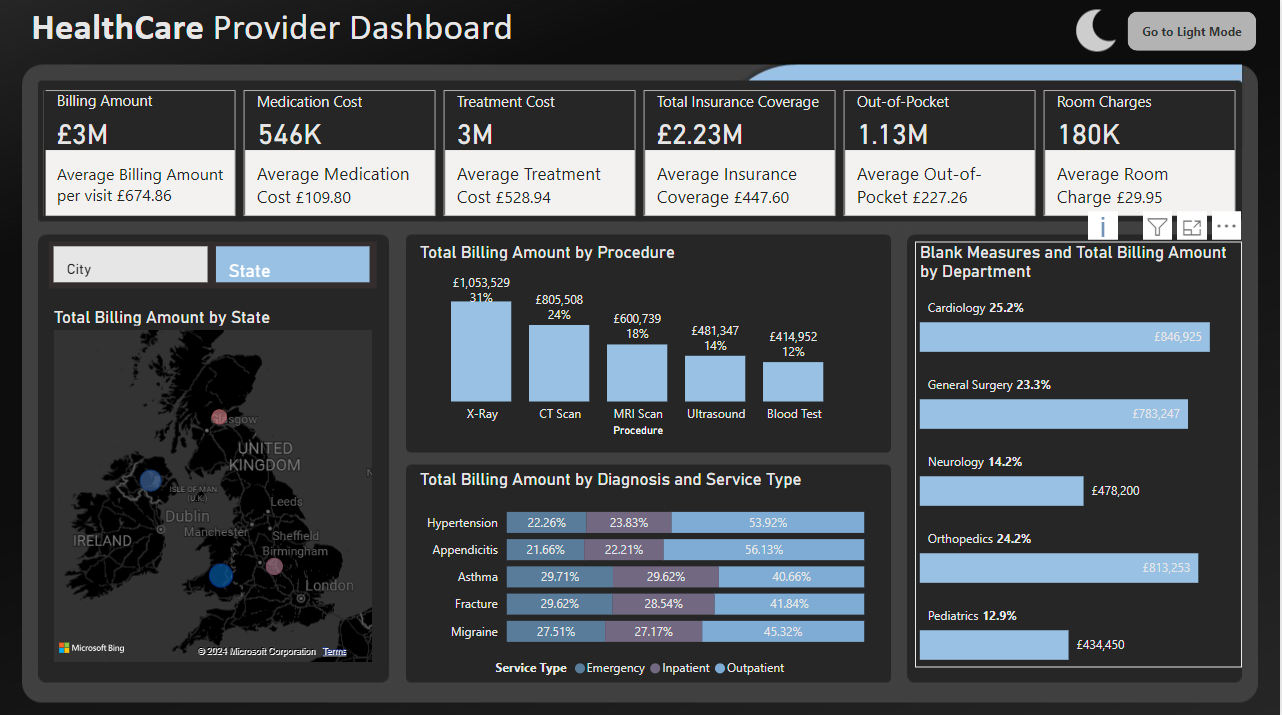

The dashboard page shown, as its layout file describes it:
{"tool":"powerbi","page":{"name":"Duplicate of Page 2","canvas":[1280,720],"ordinal":2},"visuals":[{"type":"cardVisual","fields":{"Data":["DAX Calculation.Total Billing Amount","DAX Calculation.Total Medication Cost","DAX Calculation.Total Treatment Cost","DAX Calculation.Total Insurance Coverage","DAX Calculation.Out-of-Pocket","DAX Calculation.Total Room Charges"]},"box":[39.2,86.1,1203.8,136.7],"z":0},{"type":"map","fields":{"Category":["cities.State"],"Size":["DAX Calculation.Total Billing Amount"]},"box":[49.4,307.6,327.8,360.8],"z":1000},{"type":"advancedSlicerVisual","fields":{"Values":["Patients Location Switch.Patients Location Switch"]},"box":[49.4,243,327.8,46.8],"z":2000},{"type":"clusteredColumnChart","fields":{"Category":["procedures.Procedure"],"Y":["DAX Calculation.Total Billing Amount"]},"box":[415.2,243,446.8,200],"z":3000},{"type":"hundredPercentStackedBarChart","fields":{"Y":["DAX Calculation.Total Billing Amount"],"Category":["diagnoses.Diagnosis"],"Series":["visits.Service Type"]},"box":[415.2,469.6,454.4,217.7],"z":4000},{"type":"clusteredBarChart","fields":{"Category":["departments.Department"],"Y":["DAX Calculation.Blank Measures","DAX Calculation.Total Billing Amount"]},"box":[915.6,242.9,327.3,426],"z":5000},{"type":"textbox","box":[26,0,555.8,64.9],"z":6000},{"type":"actionButton","box":[1127.3,12.1,128.8,39.4],"z":7000}]}

Visuals, with their boxes in screenshot pixels (x1, y1, x2, y2), scaled from the page's 1280x720 canvas onto the 1282x715 screenshot:
cardVisual - DAX Calculation.Total Billing Amount x DAX Calculation.Total Medication Cost: 39, 86, 1245, 221
map - cities.State x DAX Calculation.Total Billing Amount: 49, 305, 378, 664
advancedSlicerVisual - Patients Location Switch.Patients Location Switch: 49, 241, 378, 288
clusteredColumnChart - procedures.Procedure x DAX Calculation.Total Billing Amount: 416, 241, 863, 440
hundredPercentStackedBarChart - DAX Calculation.Total Billing Amount x diagnoses.Diagnosis: 416, 466, 871, 683
clusteredBarChart - departments.Department x DAX Calculation.Blank Measures: 917, 241, 1245, 664
textbox: 26, 0, 583, 64
actionButton: 1129, 12, 1258, 51
